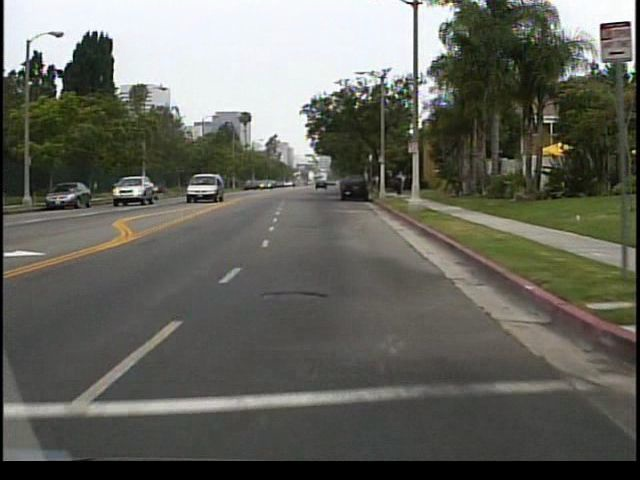person: (397, 169, 410, 198), (393, 174, 402, 196)
